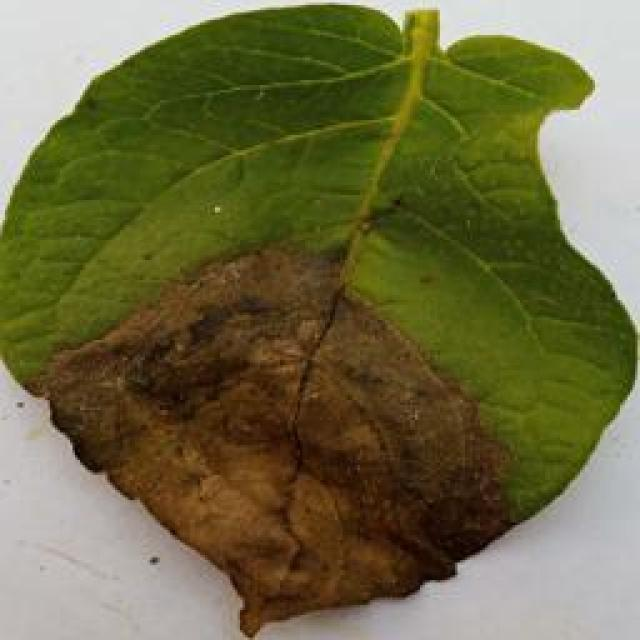Potato_Late_Blight: (5, 8, 630, 634)
